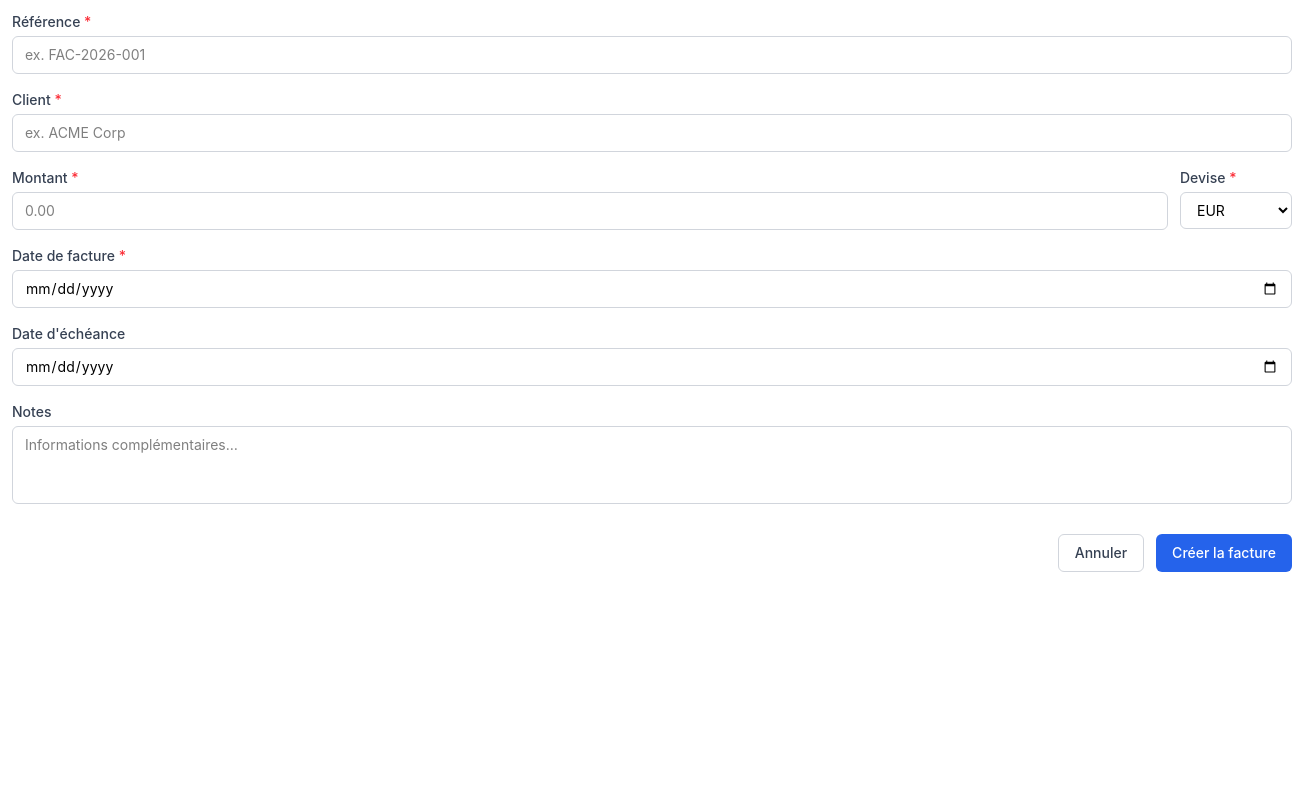
Test: InvoiceForm › validate() — required fields › shows "Le client est obligatoire" when client is empty
Type "FAC-X" into the field with id "inv-reference" at (652, 55), box [12,36,1292,74]
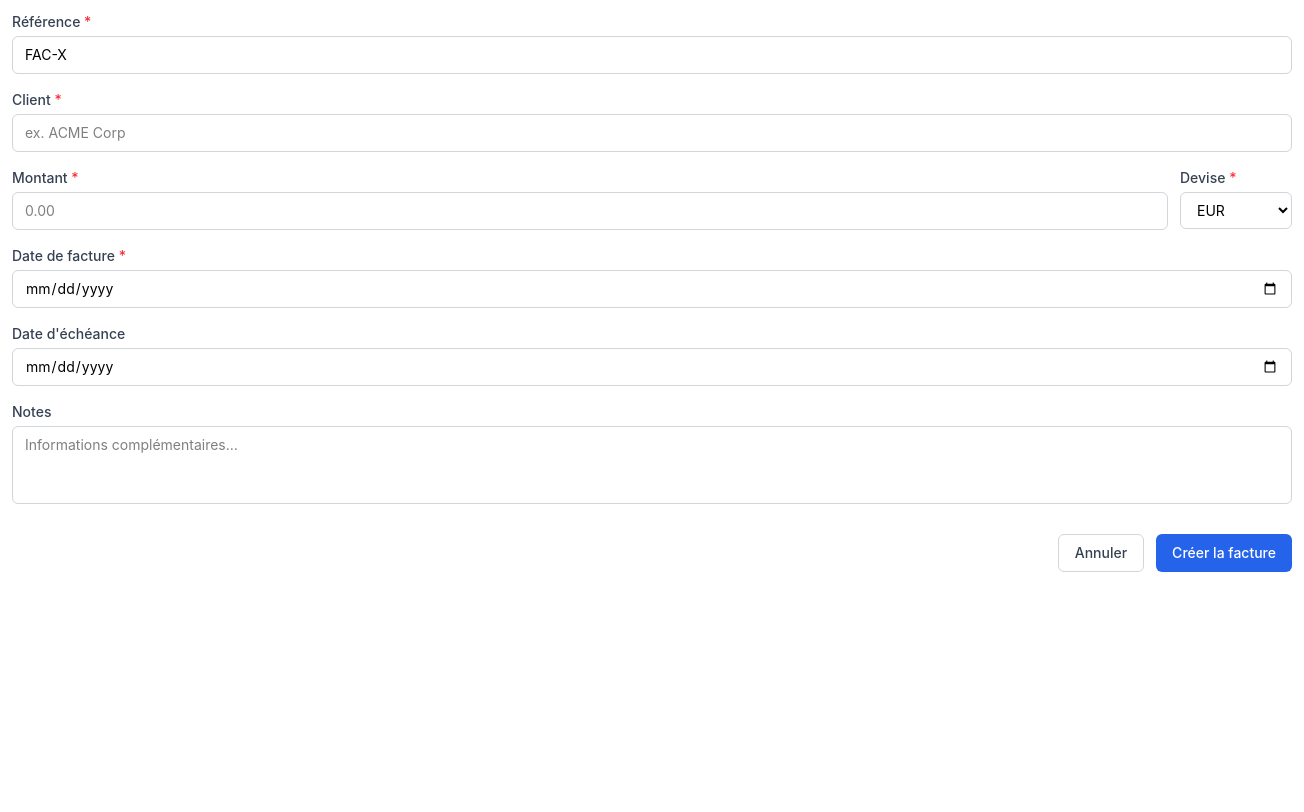
Submit the form
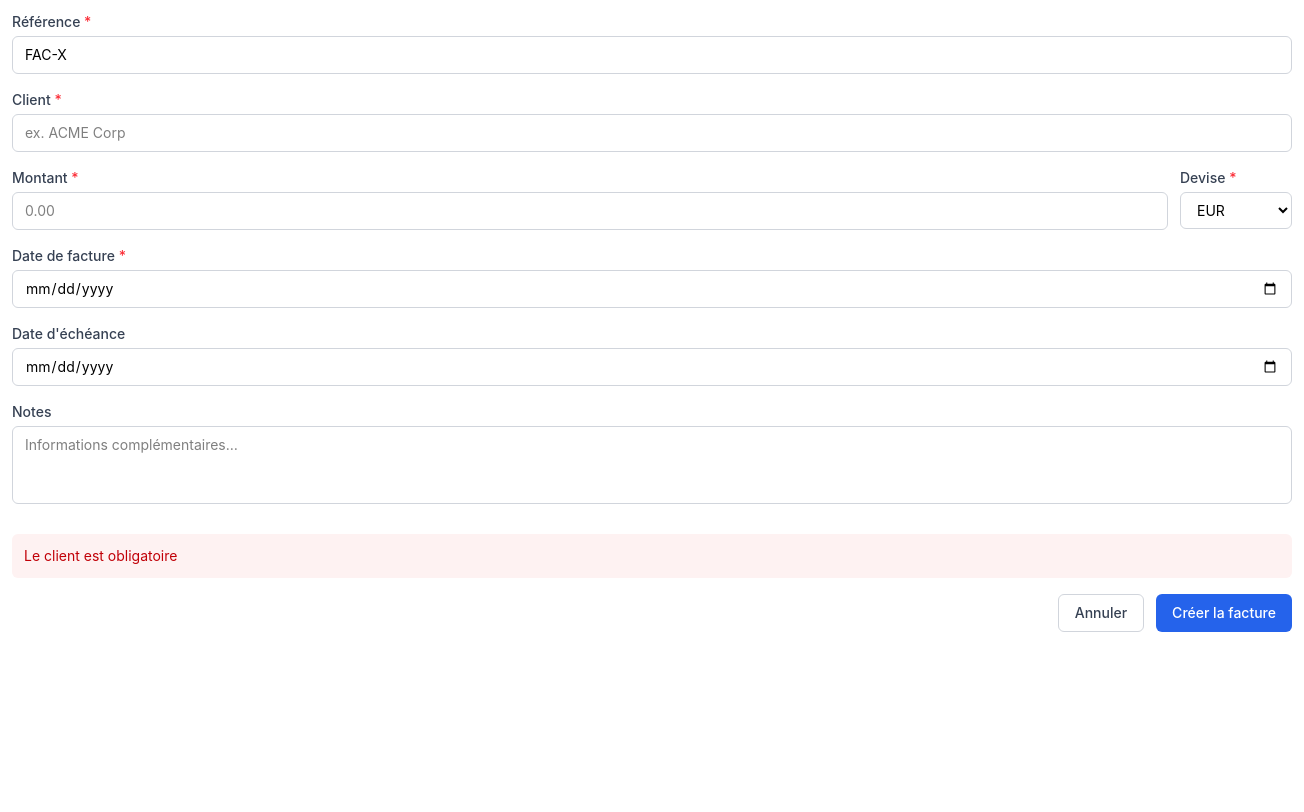
Now the form shows "Le client est obligatoire", box [24,547,178,564]
